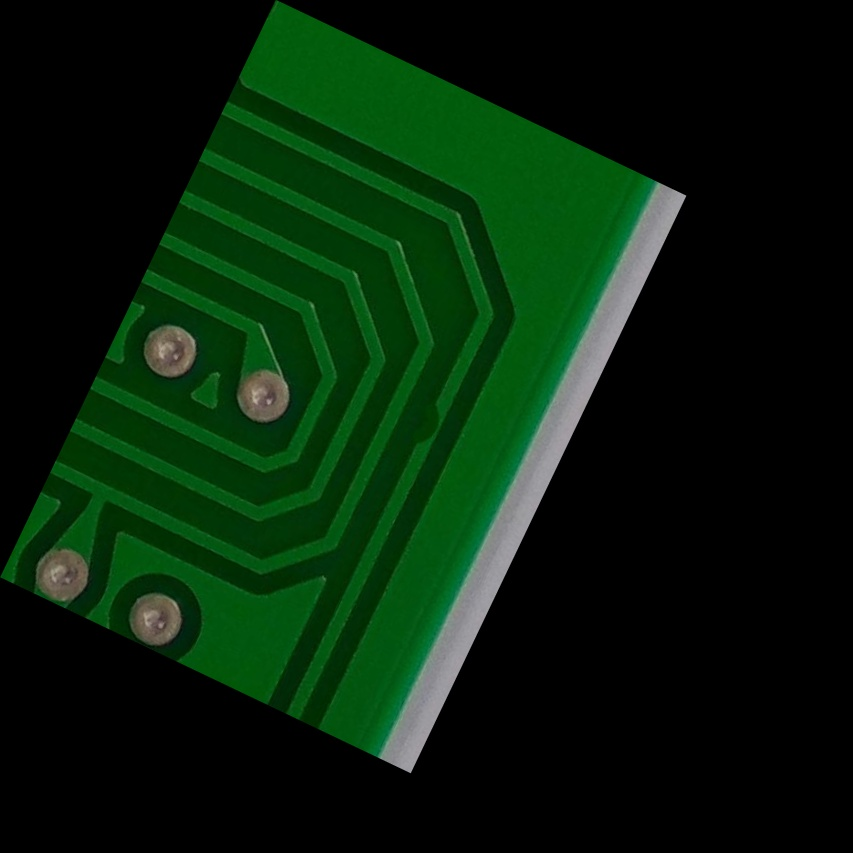mouse_bite: (390, 385, 462, 469)
